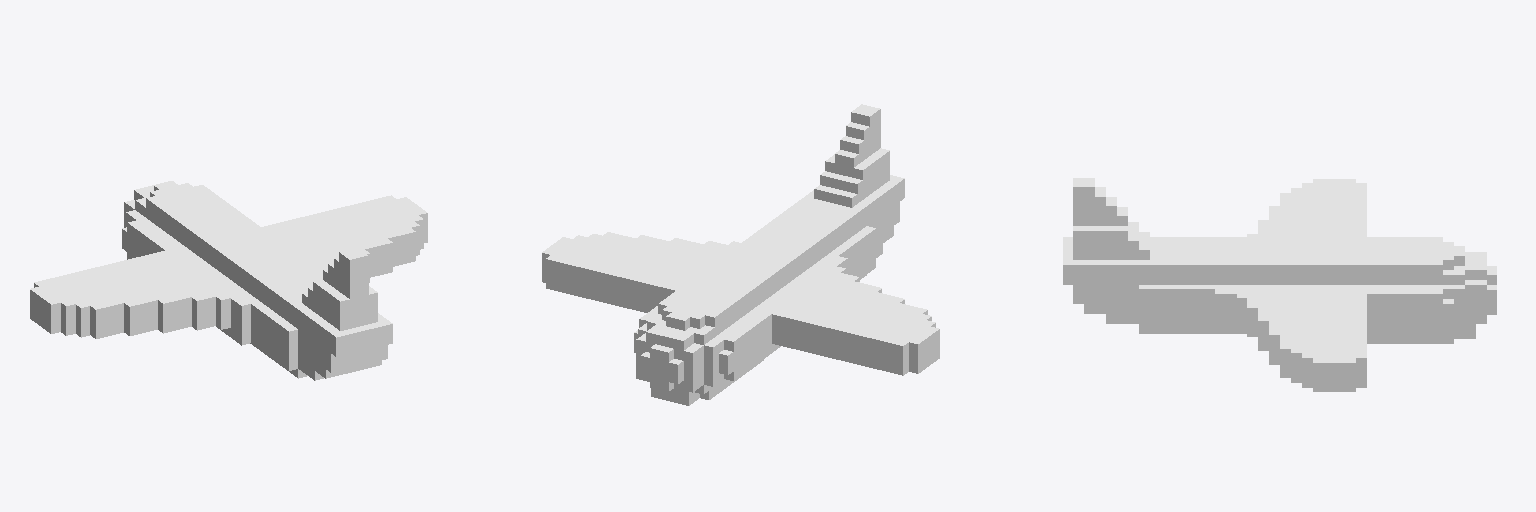
Rendered from Enemy2.obj.
3 views of the same model, side by side, from view 1: azimuth 30°, elevation 25°; view 2: azimuth 150°, elevation 25°; view 3: azimuth 270°, elevation 25° (orthographic).
Visible parts, largest first — view 1: ObjObject; view 2: ObjObject; view 3: ObjObject.
Boxes of the visible parts, <box> form: ObjObject: <box>30,181,427,380</box>; ObjObject: <box>542,104,939,405</box>; ObjObject: <box>1063,178,1496,391</box>.
Size of the model in its own units: 4 by 1.5 by 4.